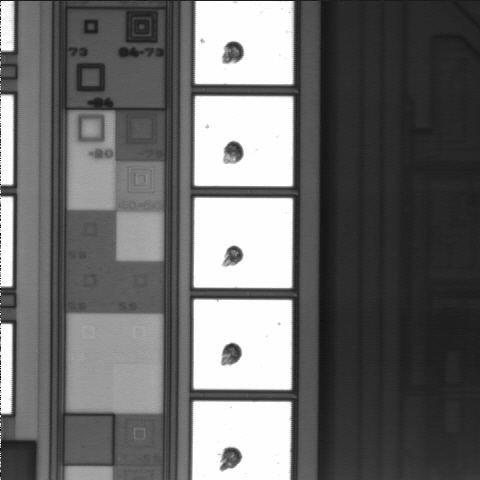pad: (194, 96, 293, 186), (194, 198, 293, 288), (194, 300, 292, 390)
